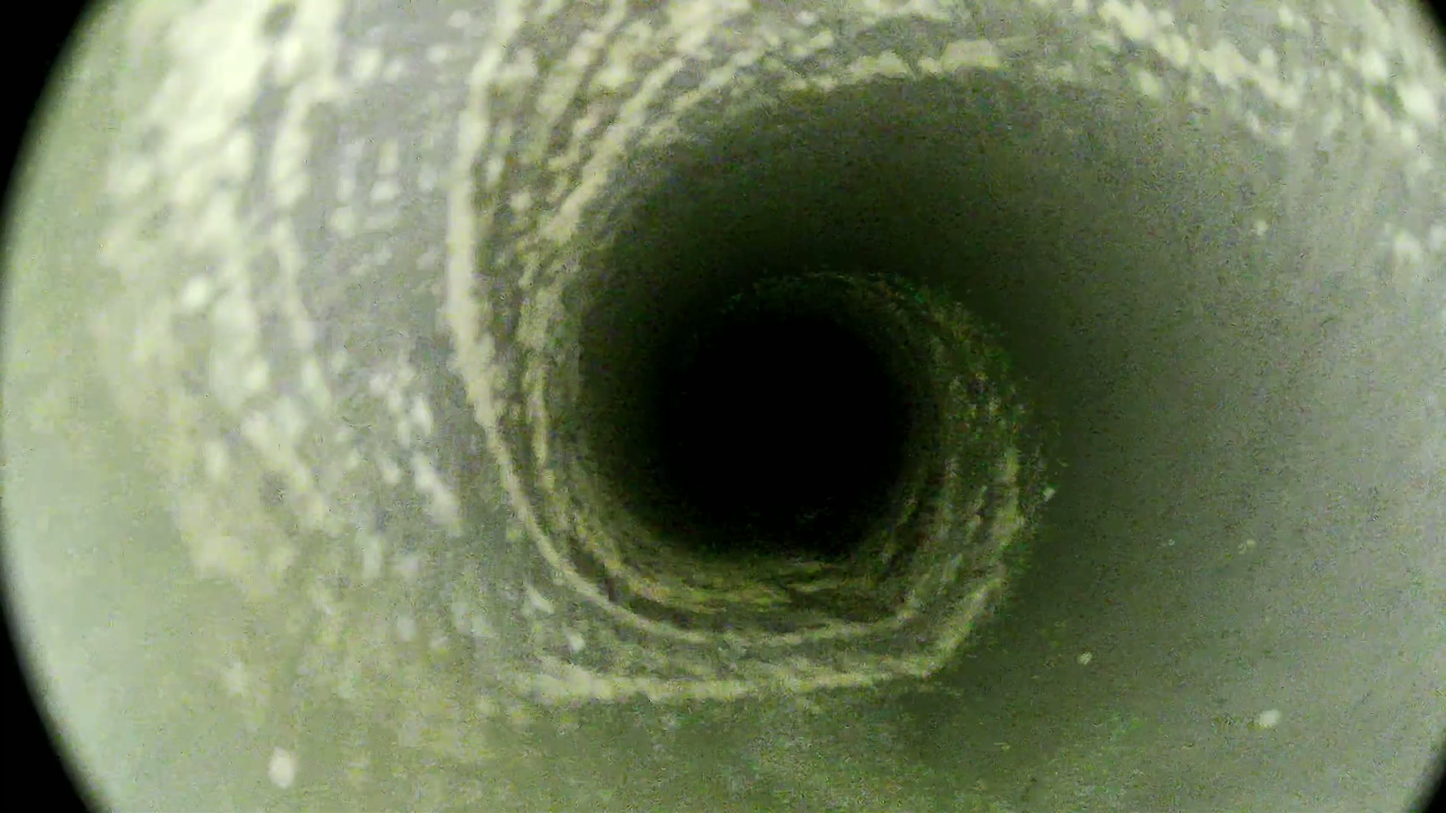hole: (682, 318, 882, 511)
